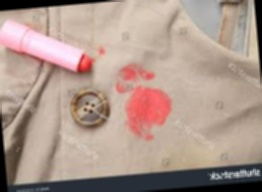lipstick: (119, 73, 174, 148), (112, 62, 160, 96), (97, 47, 111, 59)
